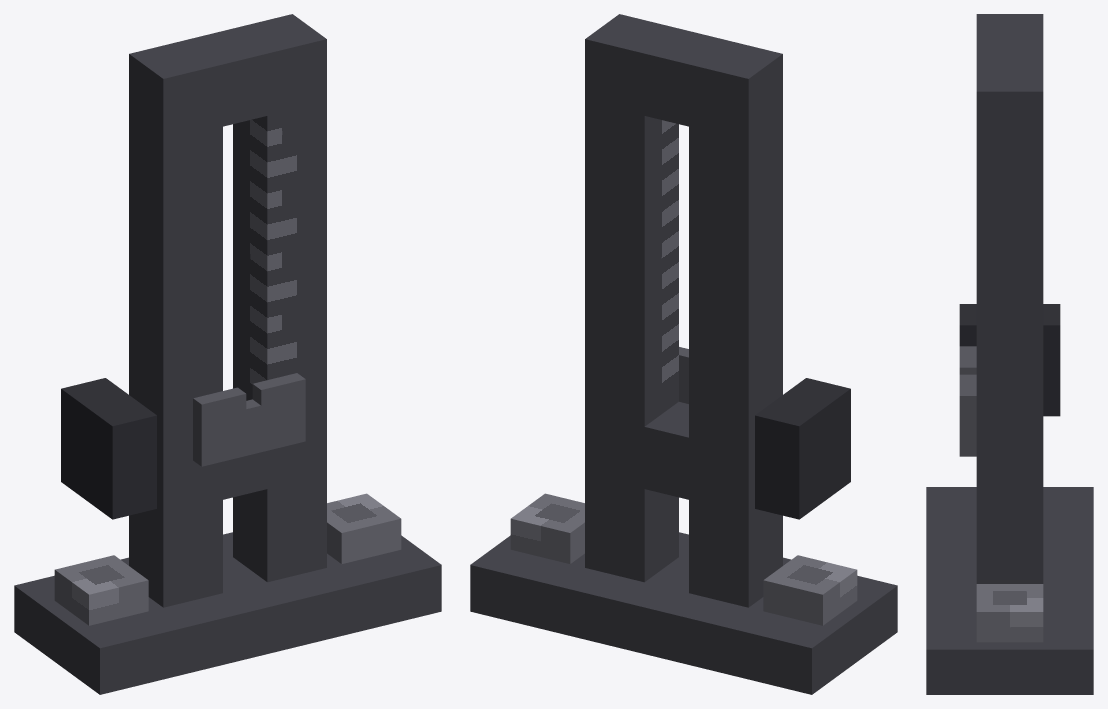
The model's file is item_ironsights.gltf.
3 views of the same model, side by side, from view 1: azimuth 30°, elevation 25°; view 2: azimuth 150°, elevation 25°; view 3: azimuth 270°, elevation 25° (orthographic). The views are drawn at different scales.
Visible parts, largest first — view 1: pn_chest_gold-Mesh; view 2: pn_chest_gold-Mesh; view 3: pn_chest_gold-Mesh.
Part boxes in pixels (bbox=[...]): pn_chest_gold-Mesh: bbox=[14, 14, 441, 694]; pn_chest_gold-Mesh: bbox=[470, 14, 897, 694]; pn_chest_gold-Mesh: bbox=[926, 14, 1093, 694].
Bounding box in the file's own units: 23 × 37 × 10.
1 material, 1 textured.
